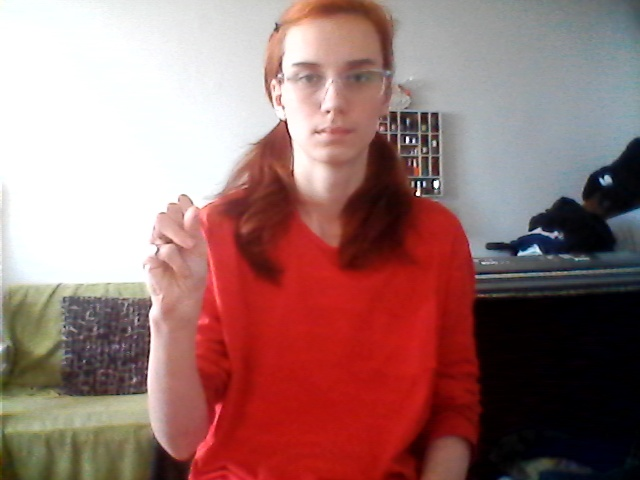r: (130, 195, 237, 332)
